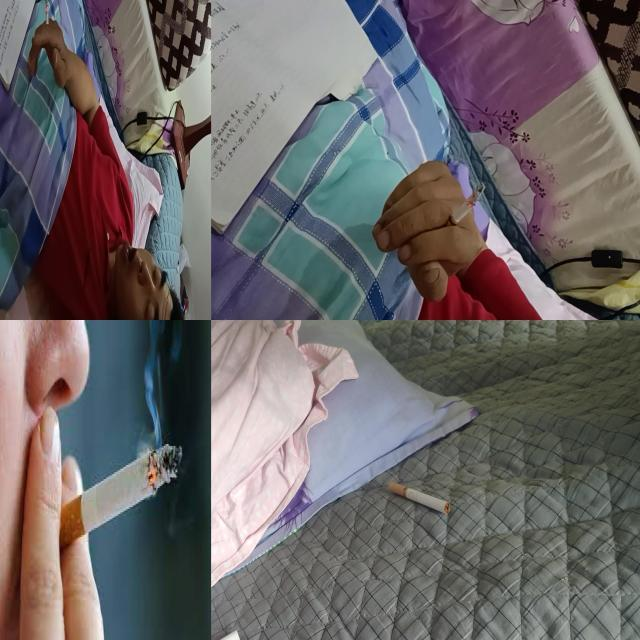smoke: (35, 443, 183, 560), (388, 481, 450, 515), (443, 182, 485, 232), (45, 0, 49, 34)
